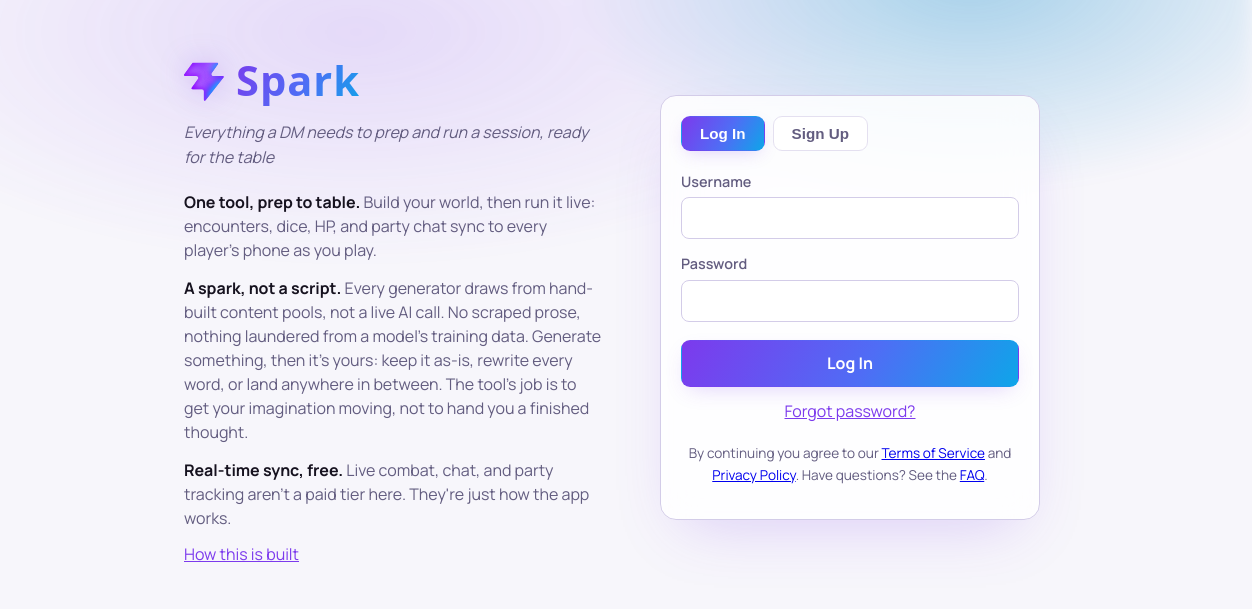
AuthPage › switches to signup mode and shows the minimum-length hint
Click the button "Sign Up": x=820, y=133 top-left (773, 116), bottom-right (868, 151)
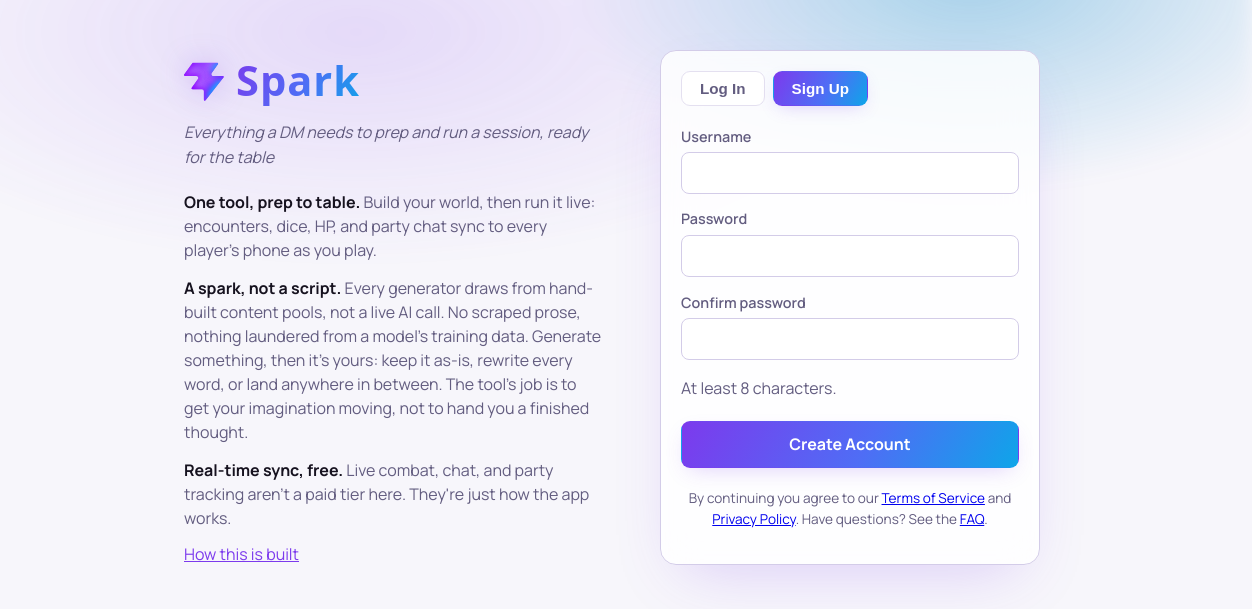
Check: the text "At least 8 characters." is shown, box top-left (681, 377), bottom-right (836, 399)
Check: the button "Create Account" is shown, box top-left (681, 421), bottom-right (1019, 468)
